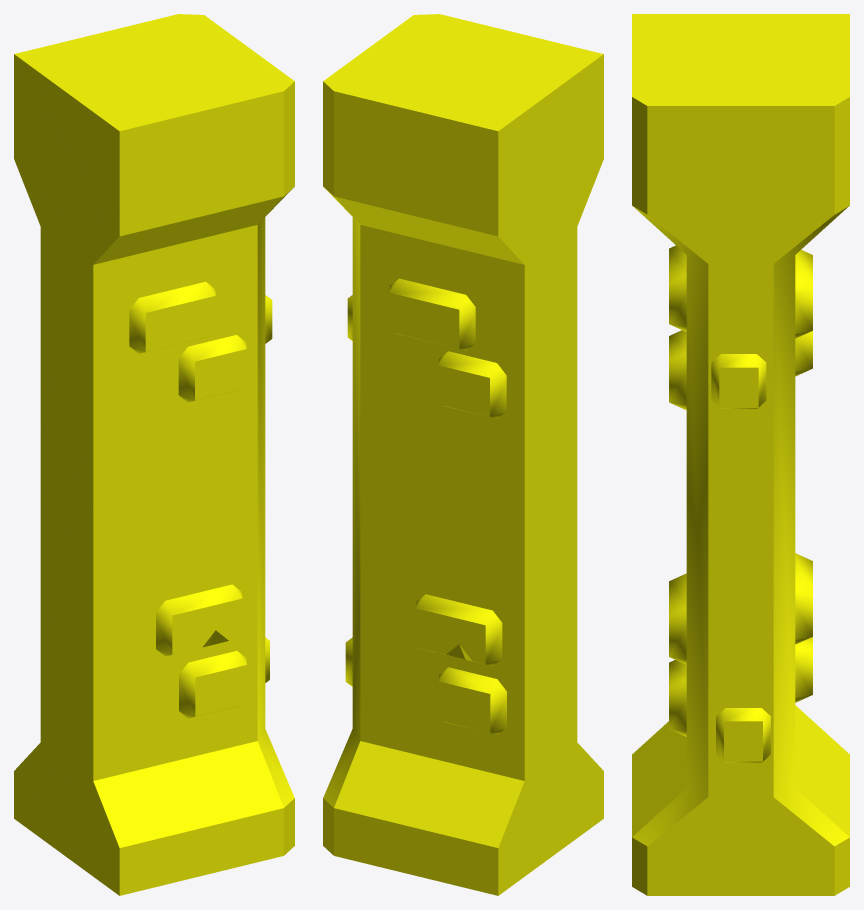
Rendered from kaykit-wall-endcap.glb.
The picture shows the model from 3 angles, left to right: view 1: azimuth 30°, elevation 25°; view 2: azimuth 150°, elevation 25°; view 3: azimuth 270°, elevation 25°; orthographic projection. The views are drawn at different scales.
Parts seen in each view (by area): view 1: wall_endcap; view 2: wall_endcap; view 3: wall_endcap.
Part boxes in pixels (x1,y1,x2,y2): wall_endcap: (14, 14, 294, 895); wall_endcap: (323, 14, 603, 895); wall_endcap: (632, 14, 849, 895).
Size of the model in its own units: 1.07 by 4 by 1.
